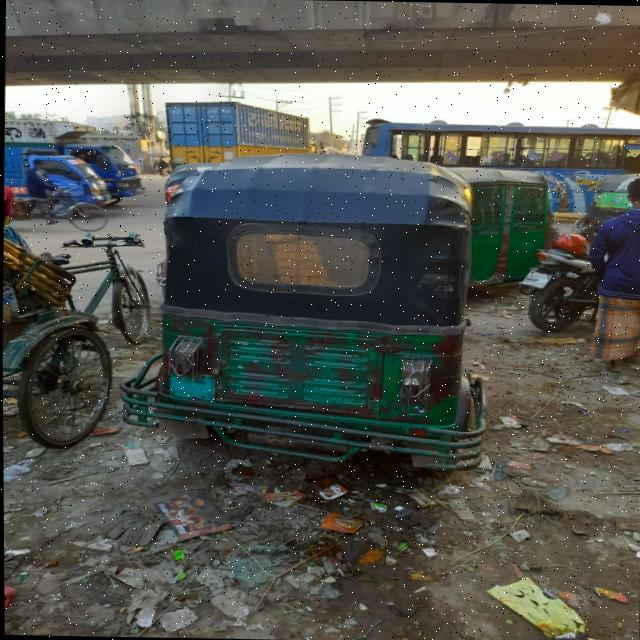cng: (132, 152, 497, 476)
